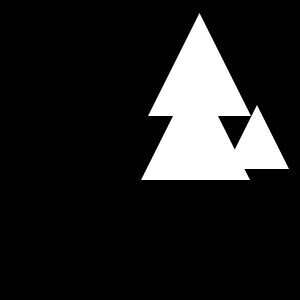triangle: (141, 71, 250, 180), (148, 13, 251, 116), (225, 105, 289, 169)
